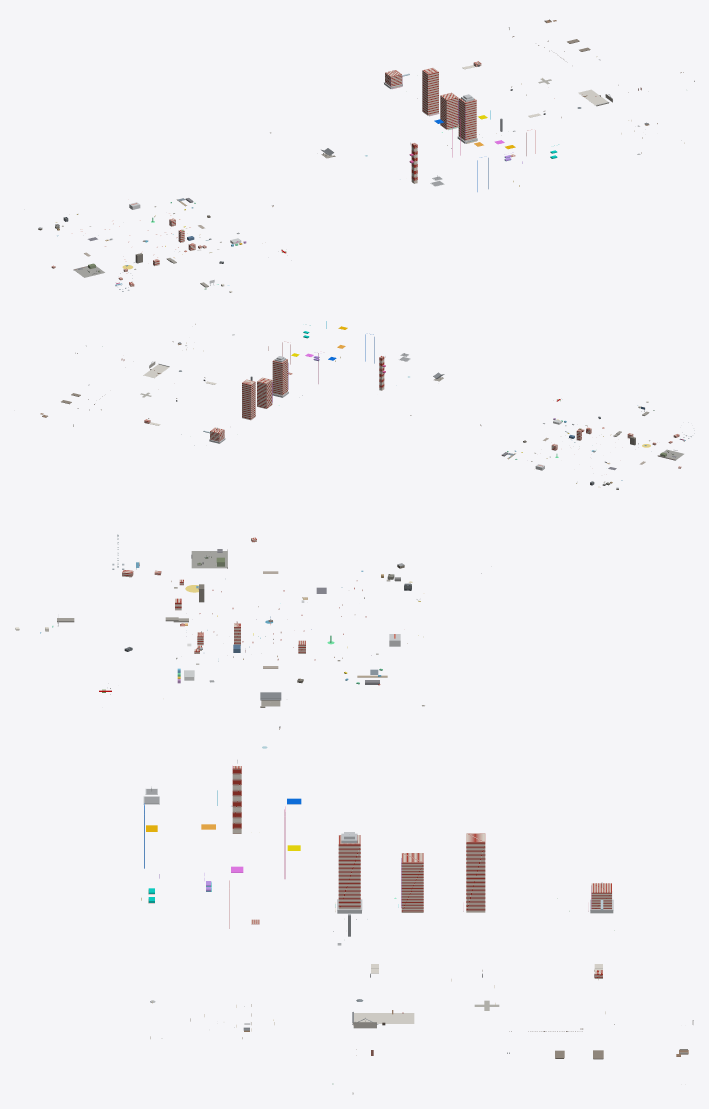
File: pack_32.glb
3 views of the same model, one above another, from view 1: azimuth 30°, elevation 25°; view 2: azimuth 150°, elevation 25°; view 3: azimuth 270°, elevation 25° (orthographic). The views are drawn at different scales.
Visible parts, largest first — view 1: pack_32; view 2: pack_32; view 3: pack_32.
Boxes of the visible parts, left/top/right/bottom form: pack_32: left=38, top=19, right=694, bottom=292; pack_32: left=40, top=321, right=694, bottom=489; pack_32: left=15, top=534, right=693, bottom=1094.
Bounding box in the file's own units: 2594 × 229 × 1334.
270 materials, 16 textured.
